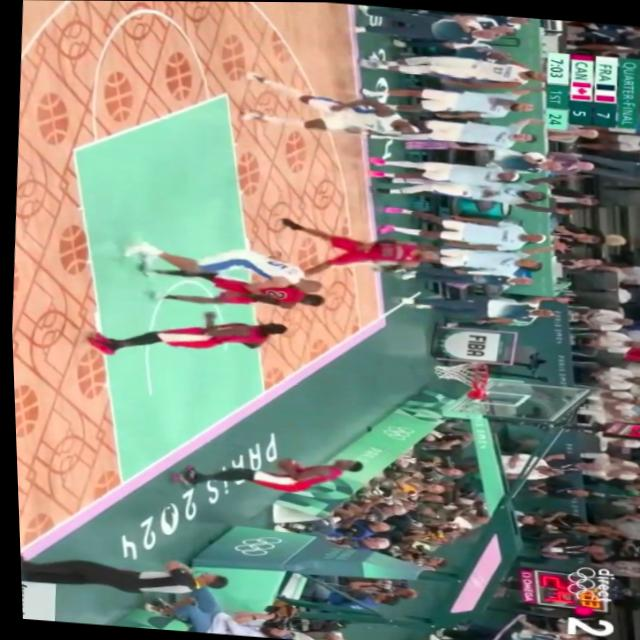ball_handler: (154, 439, 367, 504)
